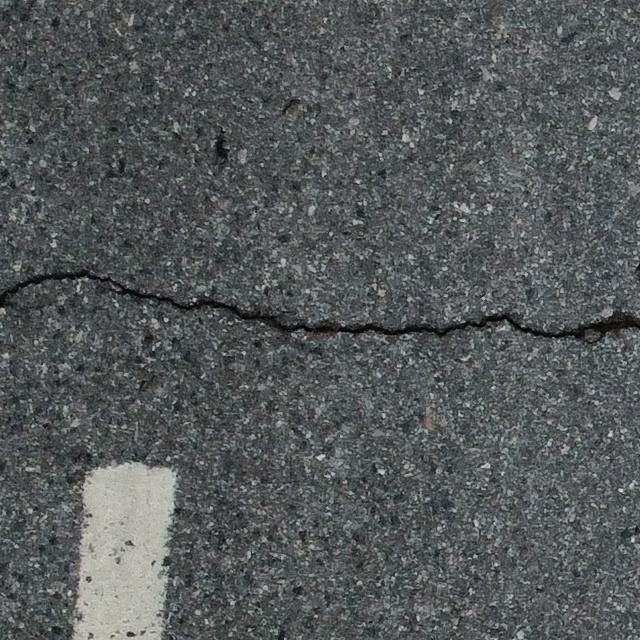TransverseCrack: (1, 268, 640, 345)
